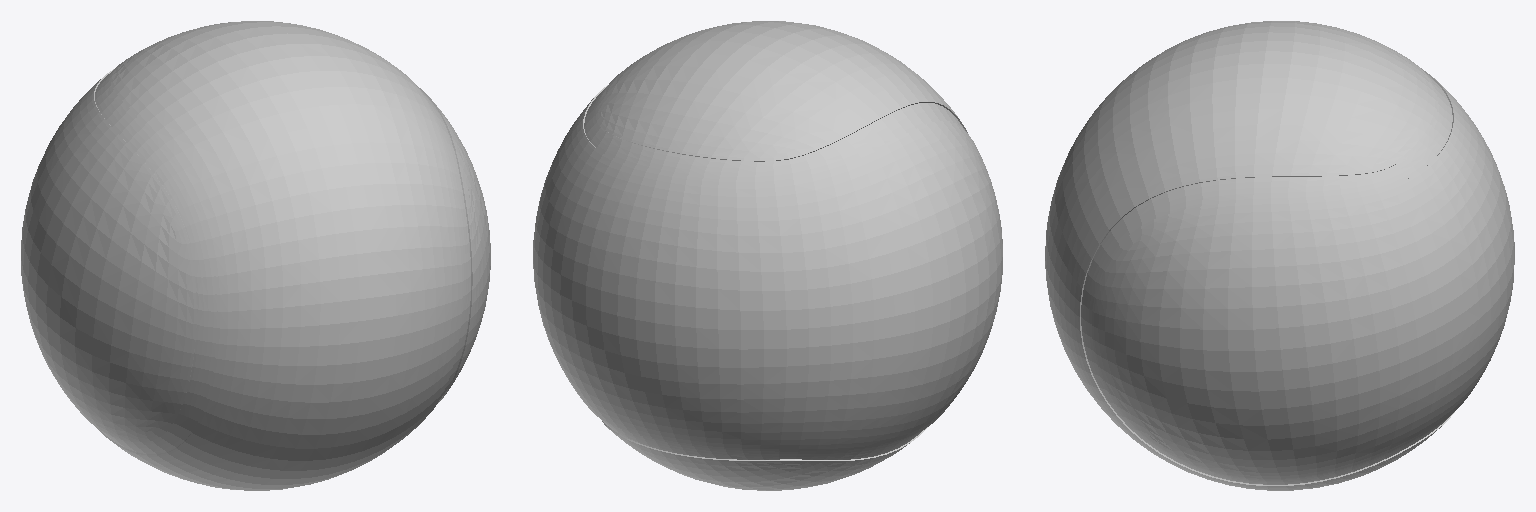
File: tennisball.obj
The picture shows the model from 3 angles: view 1: azimuth 30°, elevation 25°; view 2: azimuth 150°, elevation 25°; view 3: azimuth 270°, elevation 25°; orthographic projection.
Visible parts, largest first — view 1: tennisball; view 2: tennisball; view 3: tennisball.
Part boxes in pixels (bbox=[...]): tennisball: bbox=[21, 21, 490, 490]; tennisball: bbox=[533, 21, 1002, 490]; tennisball: bbox=[1045, 21, 1514, 490].
Size of the model in its own units: 1 by 1 by 1.